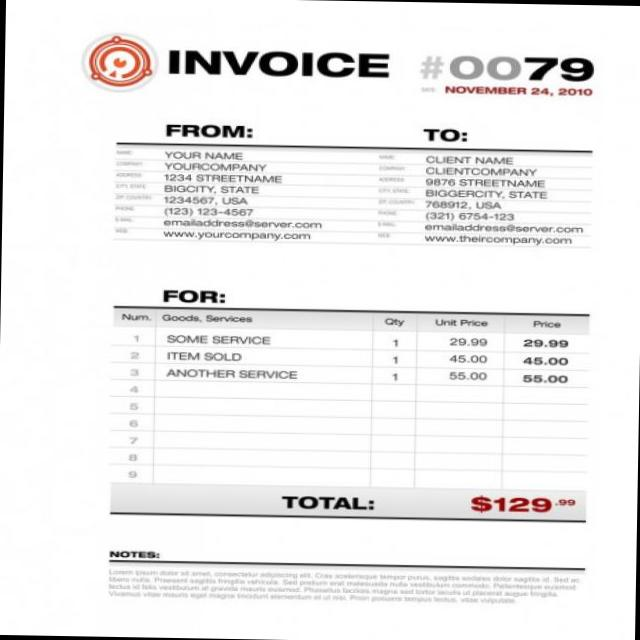customer_address: (421, 178, 551, 212)
customer_name: (423, 151, 543, 177)
invoice_date: (442, 82, 596, 100)
invoice_number: (419, 48, 596, 82)
invoice_total: (463, 486, 581, 518)
item_description: (160, 330, 310, 389)
item_quantity: (380, 332, 409, 384)
item_total_price: (512, 333, 575, 388)
item_unit_price: (436, 332, 497, 382)
supplier_address: (164, 170, 288, 207)
supplier_name: (164, 148, 266, 174)
